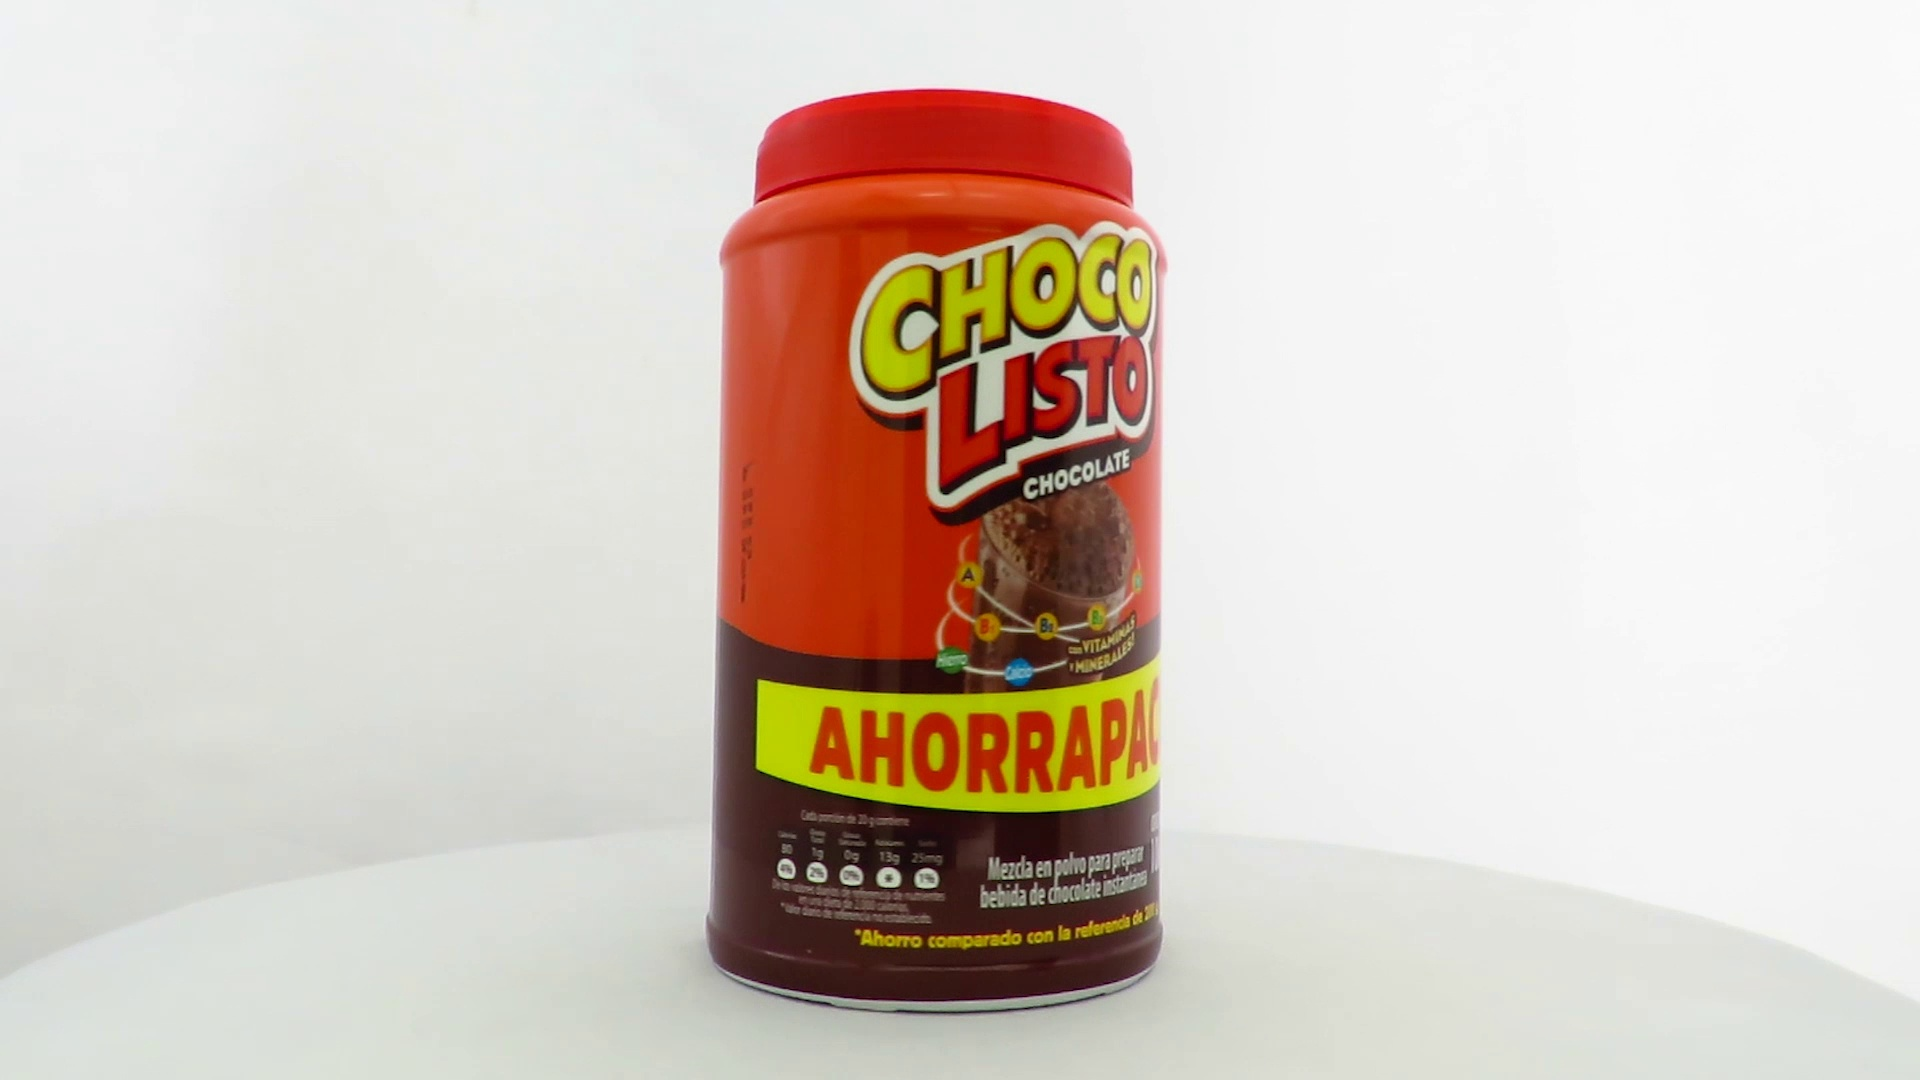COL0170103TRR00100: (700, 84, 1174, 1021)
